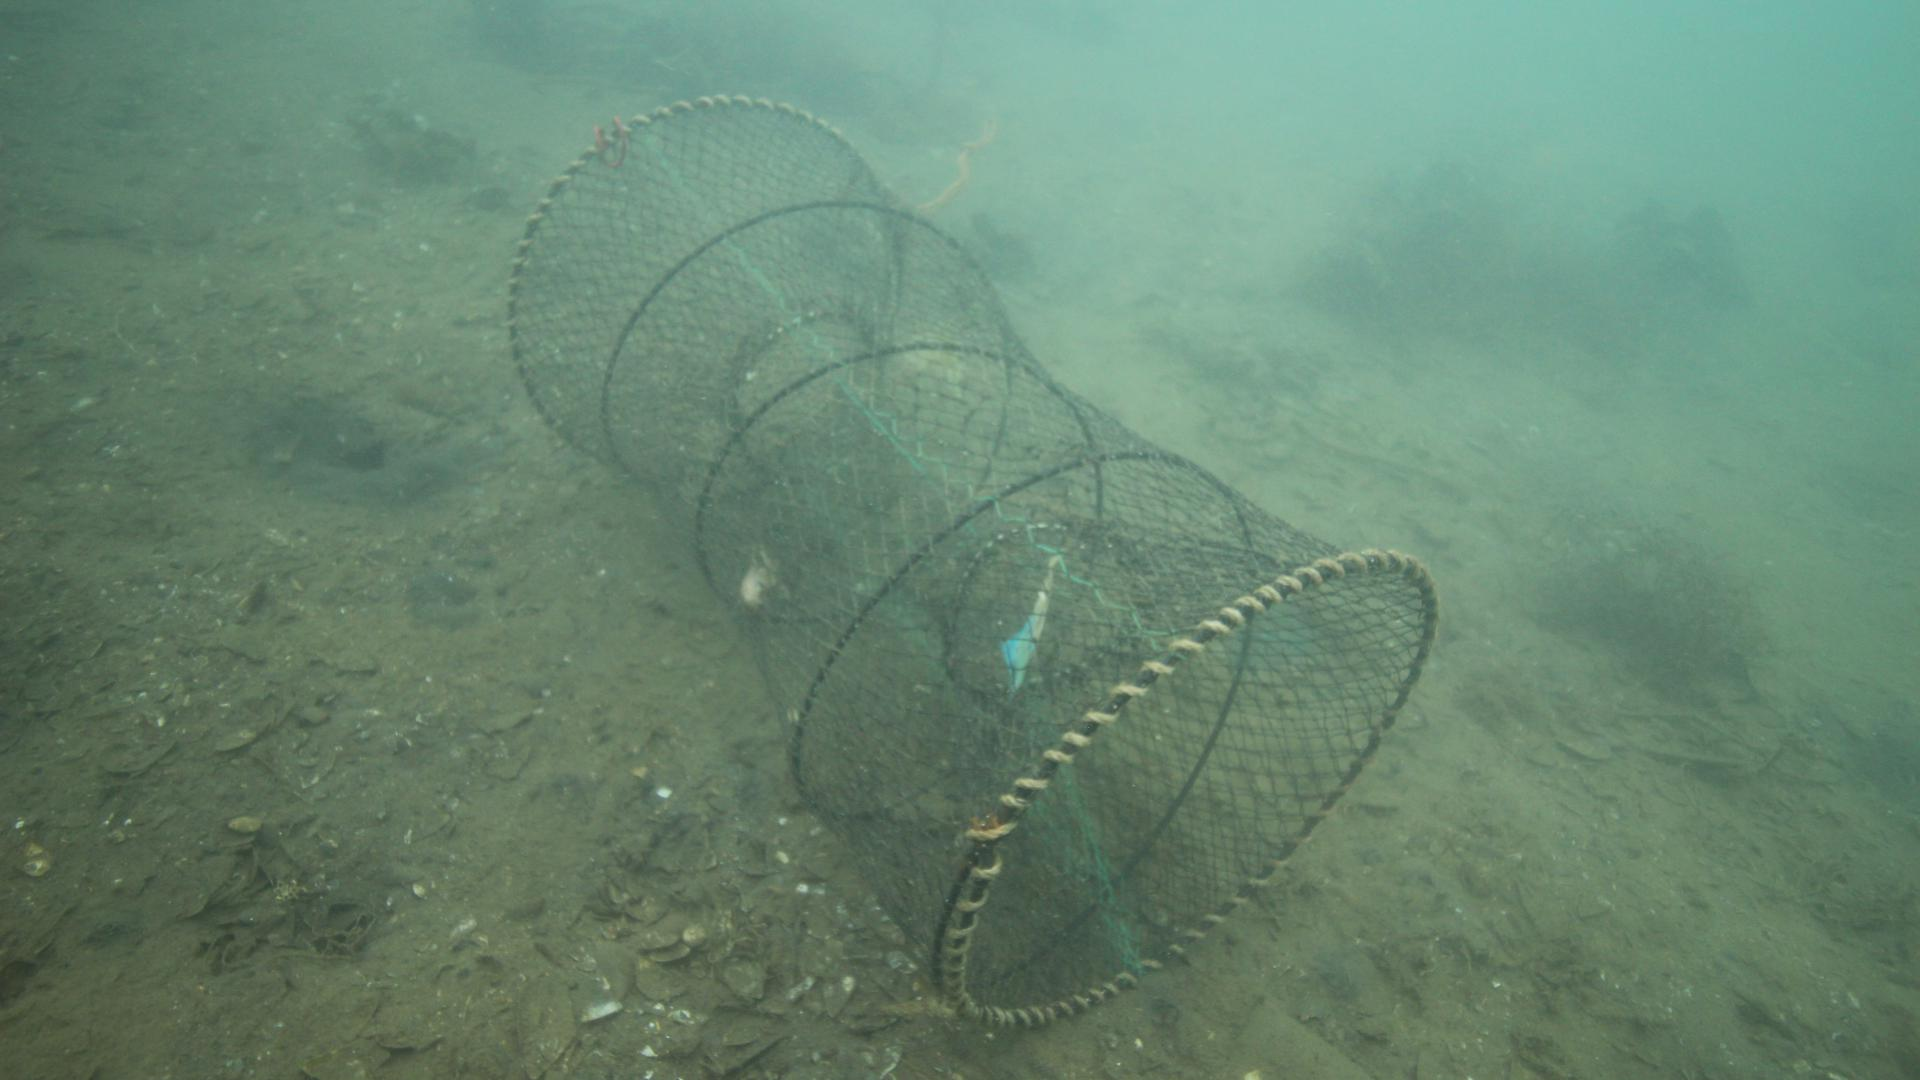bundle of ropes: (916, 109, 1002, 218)
spring fish trap: (498, 88, 1439, 1040)
